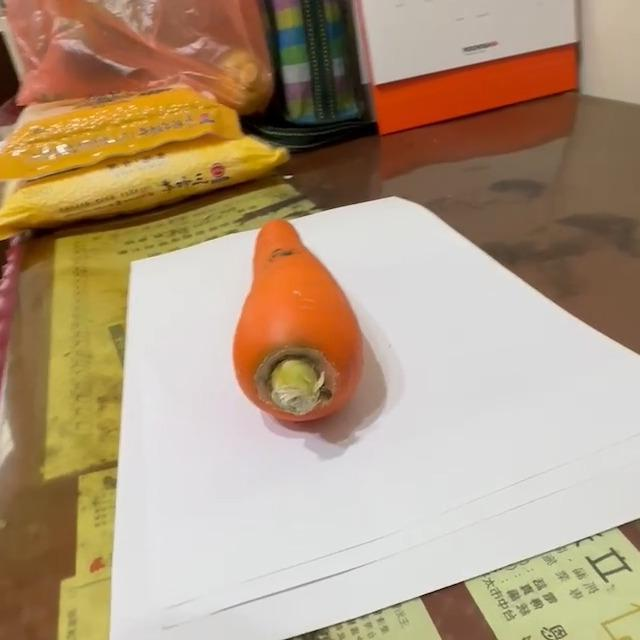carrot: (224, 216, 367, 430)
